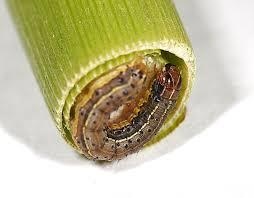fallarmy_worm: (70, 59, 189, 165)
